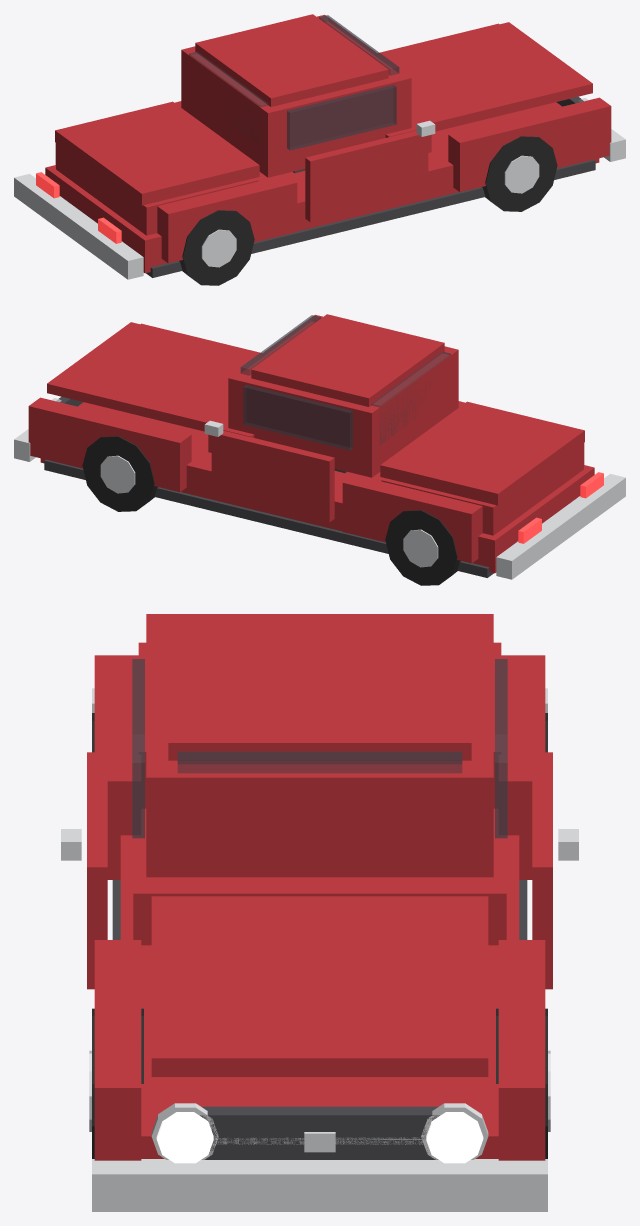
File: 1965-ford-mustang-coupe.glb
3 views of the same model, one above another, from view 1: azimuth 30°, elevation 25°; view 2: azimuth 150°, elevation 25°; view 3: azimuth 270°, elevation 25° (orthographic). The views are drawn at different scales.
Visible parts, largest first — view 1: Paint_Cabin, Paint_Hood, Paint_Trunk, Paint_Roof, Paint_Door_R, Paint_Fender_FR, Paint_Rocker, Paint_Fender_RR, Window_Side_R, Bumper_Rear, Trim_Sills, Paint_Deck (+9 smaller); view 2: Paint_Cabin, Paint_Hood, Paint_Trunk, Paint_Roof, Paint_Door_L, Paint_Fender_FL, Paint_Rocker, Paint_Fender_RL, Window_Side_L, Bumper_Rear, Trim_Sills, Paint_Deck (+9 smaller); view 3: Paint_Hood, Paint_Cabin, Paint_Roof, Bumper_Front, Paint_Rocker, Grill, Paint_Fender_FL, Paint_Fender_FR, Paint_Cowl, Paint_Fender_RL, Paint_Fender_RR, Window_Front (+12 smaller).
Part boxes in pixels (x1,y1,x2,y2): Paint_Cabin: [181, 14, 411, 177]; Paint_Hood: [379, 22, 592, 131]; Paint_Trunk: [55, 101, 259, 205]; Paint_Roof: [195, 14, 388, 106]; Paint_Door_R: [305, 130, 428, 222]; Paint_Fender_FR: [448, 97, 611, 192]; Paint_Rocker: [45, 102, 599, 273]; Paint_Fender_RR: [157, 174, 297, 263]; Window_Side_R: [287, 85, 396, 150]; Bumper_Rear: [14, 174, 143, 279]; Trim_Sills: [146, 159, 595, 277]; Paint_Deck: [56, 143, 258, 235]; Paint_Cabin: [228, 314, 458, 477]; Paint_Hood: [47, 322, 260, 431]; Paint_Trunk: [380, 401, 584, 505]; Paint_Roof: [251, 314, 444, 406]; Paint_Door_L: [211, 430, 334, 522]; Paint_Fender_FL: [28, 397, 191, 492]; Paint_Rocker: [40, 402, 594, 573]; Paint_Fender_RL: [342, 474, 482, 563]; Window_Side_L: [243, 385, 352, 450]; Bumper_Rear: [496, 474, 625, 579]; Trim_Sills: [44, 459, 493, 577]; Paint_Deck: [381, 443, 583, 535]; Paint_Hood: [151, 896, 488, 1076]; Paint_Cabin: [146, 637, 493, 877]; Paint_Roof: [168, 628, 471, 760]; Bumper_Front: [92, 1159, 547, 1211]; Paint_Rocker: [120, 808, 519, 1158]; Grill: [200, 1106, 439, 1159]; Paint_Fender_FL: [498, 940, 545, 1160]; Paint_Fender_FR: [94, 940, 141, 1160]; Paint_Cowl: [133, 852, 506, 945]; Paint_Fender_RL: [499, 655, 545, 879]; Paint_Fender_RR: [94, 655, 140, 879]; Window_Front: [177, 751, 462, 772].
Bounding box in the file's own units: 4.44 × 1.33 × 2.
